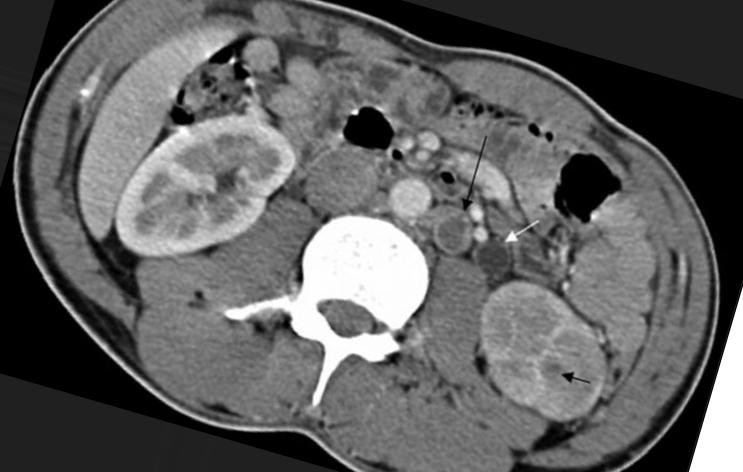anomaly: (471, 238, 519, 286)
